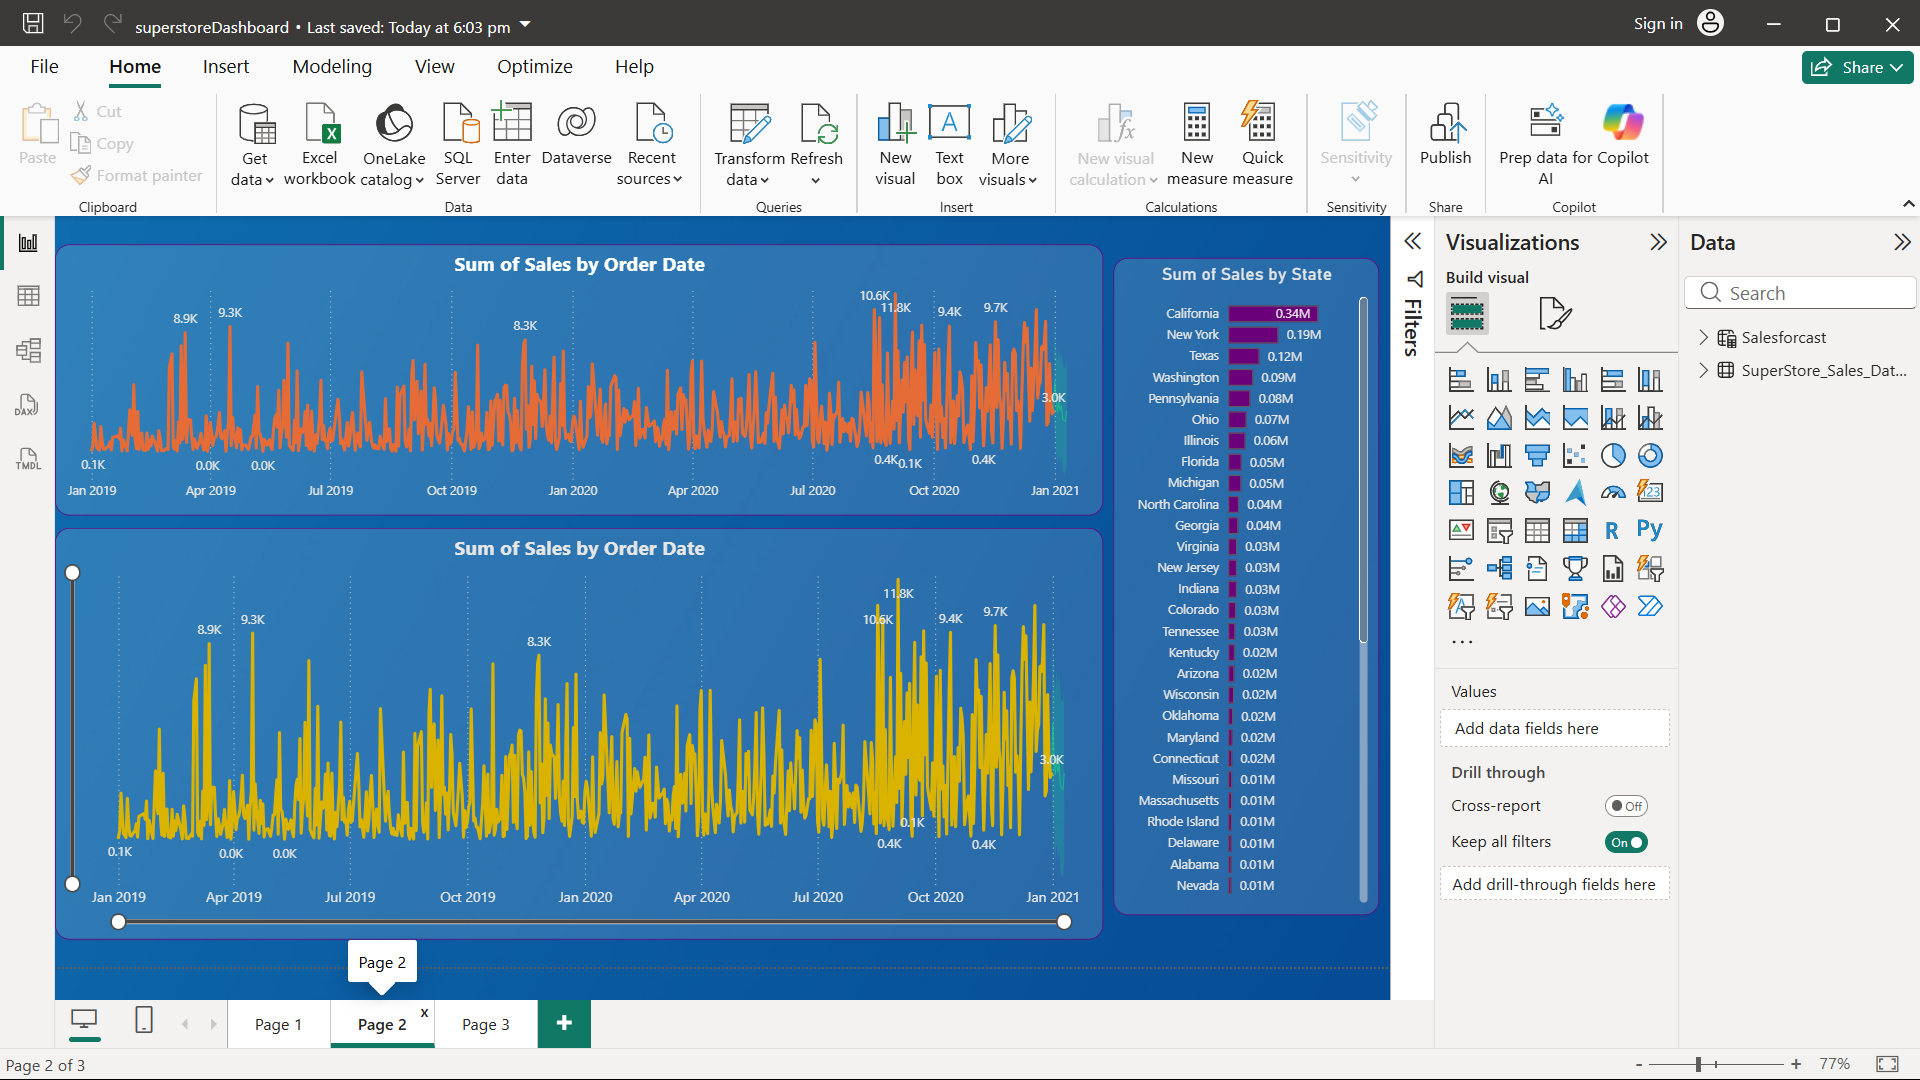

This screenshot's page, from the dashboard's own definition file:
{"tool":"powerbi","page":{"name":"Page 2","canvas":[1280,720],"ordinal":1},"visuals":[{"type":"lineChart","fields":{"Y":["Sum(SuperStore_Sales_Dataset.Sales)"],"Category":["SuperStore_Sales_Dataset.Order Date"]},"box":[0,27.5,1005,260],"z":0},{"type":"lineChart","fields":{"Y":["Sum(SuperStore_Sales_Dataset.Sales)"],"Category":["SuperStore_Sales_Dataset.Order Date"]},"box":[0,298.8,1005,395],"z":1000},{"type":"clusteredBarChart","fields":{"Category":["SuperStore_Sales_Dataset.State"],"Y":["Sum(SuperStore_Sales_Dataset.Sales)"]},"box":[1015,40,255,630],"z":2000}]}

Visuals, with their boxes on the page's 1280x720 design canvas (x1, y1, x2, y2). These are canvas units, not pixel positions in the 1920x1080 screenshot, which may show the page scaled, cropped or inside an application window:
lineChart - Sum(SuperStore_Sales_Dataset.Sales) x SuperStore_Sales_Dataset.Order Date: box=[0, 28, 1005, 288]
lineChart - Sum(SuperStore_Sales_Dataset.Sales) x SuperStore_Sales_Dataset.Order Date: box=[0, 299, 1005, 694]
clusteredBarChart - SuperStore_Sales_Dataset.State x Sum(SuperStore_Sales_Dataset.Sales): box=[1015, 40, 1270, 670]
